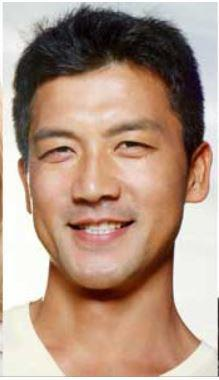Sober: (32, 90, 181, 265)
